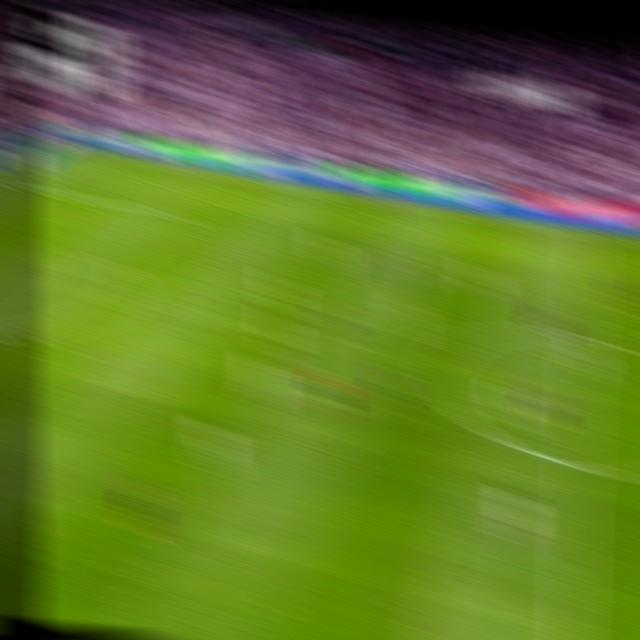bigarea_top_inner: (161, 204, 190, 225)
bottom_arc_area_intersection: (2, 317, 30, 342)
corner: (66, 143, 94, 159)
halfcircle_bottom: (561, 447, 595, 483)
halfcircle_top: (568, 323, 599, 351)
midline_top_intersection: (574, 224, 602, 245)
top_arc_area_intersection: (100, 247, 129, 271)
